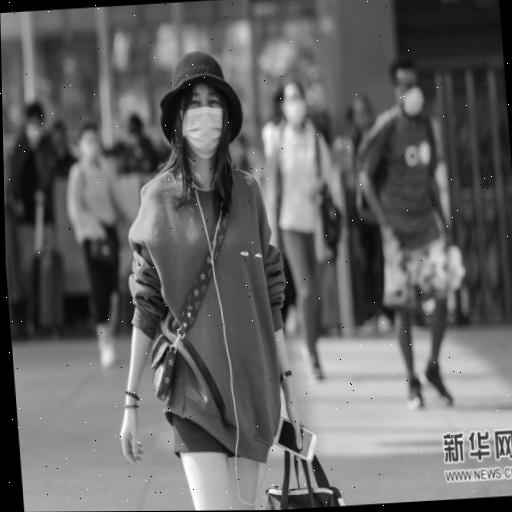mask: (155, 44, 242, 168), (382, 51, 429, 124), (270, 74, 312, 133), (19, 97, 48, 154), (74, 117, 104, 165)
